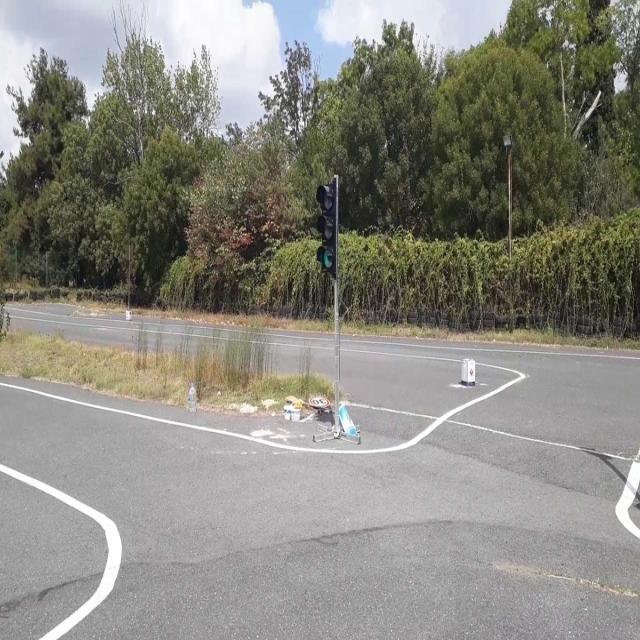yesil: (316, 187, 336, 272)
